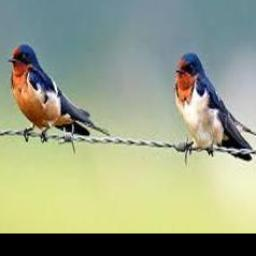Swallow: (5, 43, 110, 140), (173, 52, 256, 161)
